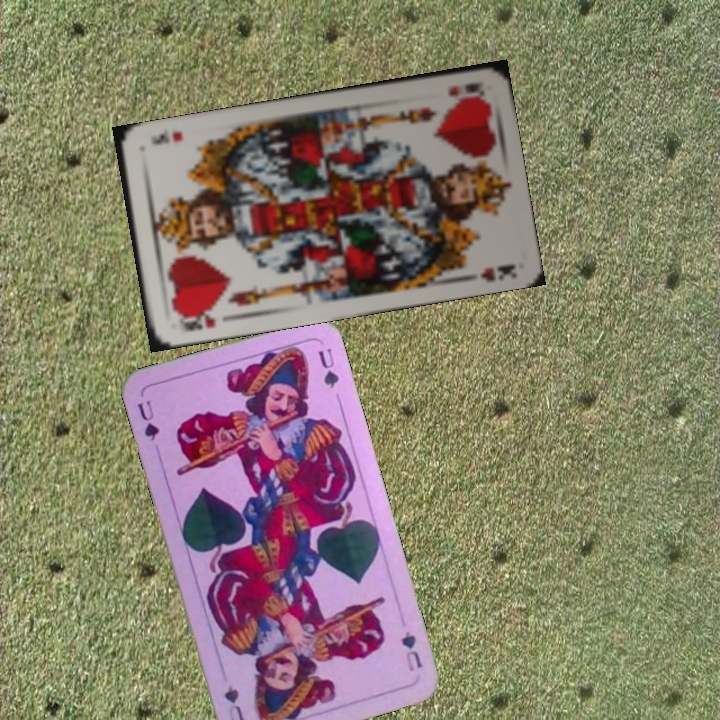GU: (133, 396, 162, 444), (397, 627, 425, 674)
HK: (173, 306, 219, 335), (444, 78, 486, 100)
